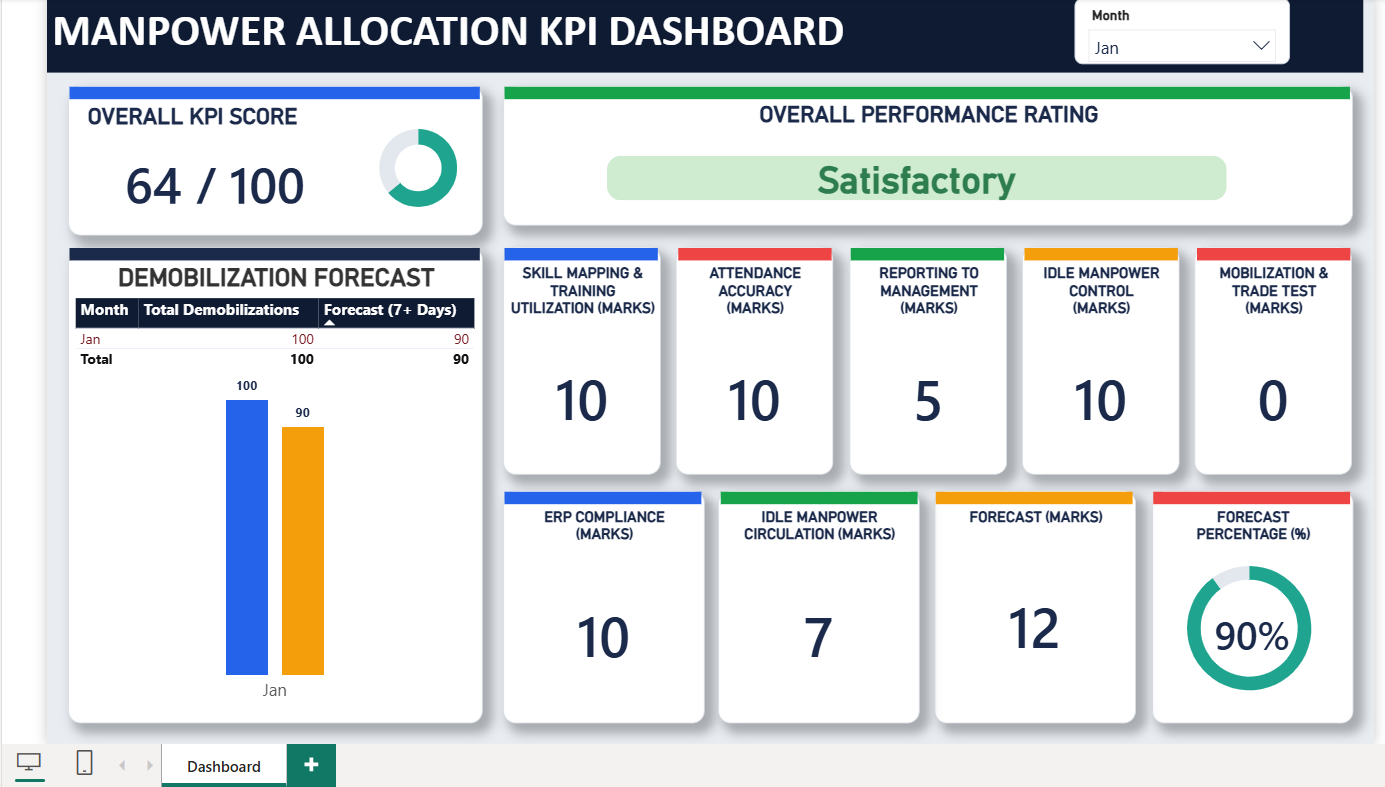

What the dashboard file says about the page in this screenshot:
{"tool":"powerbi","page":{"name":"Dashboard","canvas":[1280,720],"ordinal":0},"visuals":[{"type":"textbox","box":[0,0,1270,72],"z":0},{"type":"tableEx","title":"DEMOBILIZATION FORECAST","fields":{"Values":["KPI_Input.Month","Sum(KPI_Input.Total_Demob)","Sum(KPI_Input.Forecast_Before_7_Days)"]},"box":[20,240,400,460],"z":1000},{"type":"cardVisual","title":"OVERALL KPI SCORE ","fields":{"Data":["KPI_Input.Total_KPI_Display"]},"box":[20,85,400,145],"z":2000},{"type":"cardVisual","title":"OVERALL PERFORMANCE RATING","fields":{"Data":["KPI_Input.Overall_Rating"]},"box":[440,85,820,135],"z":3000},{"type":"cardVisual","title":"SKILL MAPPING & TRAINING UTILIZATION (MARKS)","fields":{"Data":["KPI_Input.Skill_Marks"]},"box":[440,240,152,220],"z":4000},{"type":"cardVisual","title":"ATTENDANCE ACCURACY (MARKS)","fields":{"Data":["KPI_Input.Attendance_Marks"]},"box":[607,240,152,220],"z":5000},{"type":"cardVisual","title":"REPORTING TO MANAGEMENT (MARKS)","fields":{"Data":["KPI_Input.Reporting_Marks"]},"box":[774,240,152,220],"z":6000},{"type":"cardVisual","title":"IDLE MANPOWER CONTROL (MARKS)","fields":{"Data":["KPI_Input.IdleControl_Marks"]},"box":[941,240,152,220],"z":7000},{"type":"cardVisual","title":"MOBILIZATION & TRADE TEST (MARKS)","fields":{"Data":["KPI_Input.MobTrade_Marks"]},"box":[1108,240,152,220],"z":8000},{"type":"cardVisual","title":"OVERALL PERFORMANCE RATING","fields":{"Data":["KPI_Input.Overall_Rating"]},"box":[512,112,656,112],"z":10000},{"type":"clusteredColumnChart","fields":{"Category":["DEMOBILIZATION FORECAST.Month"],"Y":["Sum(DEMOBILIZATION FORECAST.Total_Demob)","Sum(DEMOBILIZATION FORECAST.Forecast_Before_7_Days)"]},"box":[35,350,370,340],"z":12000},{"type":"cardVisual","title":"FORECAST PERCENTAGE (%)","fields":{"Data":["KPI_Input.Forecast_Percentage"]},"box":[1066,475,194,225],"z":13000},{"type":"cardVisual","title":"FORECAST (MARKS)","fields":{"Data":["KPI_Input.Forecast_Marks"]},"box":[856,475,194,225],"z":14000},{"type":"cardVisual","title":"ERP COMPLIANCE (MARKS)","fields":{"Data":["KPI_Input.ERP_Marks"]},"box":[440,475,194,225],"z":15000},{"type":"cardVisual","title":"IDLE MANPOWER CIRCULATION (MARKS)","fields":{"Data":["KPI_Input.Idle_Marks"]},"box":[648,475,194,225],"z":16000},{"type":"donutChart","fields":{"Y":["DEMOBILIZATION FORECAST.Forecast_Percentage","DEMOBILIZATION FORECAST.Forecast_Remaining"]},"box":[1072,528,176,160],"z":17000},{"type":"donutChart","fields":{"Y":["DEMOBILIZATION FORECAST.Total_KPI_Score","DEMOBILIZATION FORECAST.Score_Remaining"]},"box":[306,112,104,104],"z":18000},{"type":"shape","box":[22,86,396,12],"z":19000},{"type":"shape","box":[442,86,816,12],"z":20000},{"type":"shape","box":[22,241,396,12],"z":21000},{"type":"shape","box":[442,241,148,12],"z":22000},{"type":"shape","box":[609,241,148,12],"z":23000},{"type":"shape","box":[776,241,148,12],"z":24000},{"type":"shape","box":[943,241,148,12],"z":25000},{"type":"shape","box":[1110,241,148,12],"z":26000},{"type":"shape","box":[442,476,190,12],"z":27000},{"type":"shape","box":[650,476,190,12],"z":28000},{"type":"shape","box":[858,476,190,12],"z":29000},{"type":"shape","box":[1068,476,190,12],"z":30000},{"type":"slicer","fields":{"Values":["DEMOBILIZATION FORECAST.Month"]},"box":[992,0,208,64],"z":30500}]}

Visuals, with their boxes in screenshot pixels (x1, y1, x2, y2):
textbox: (50,11,1358,85)
"DEMOBILIZATION FORECAST" tableEx: (71,258,483,731)
"OVERALL KPI SCORE " cardVisual: (71,98,483,248)
"OVERALL PERFORMANCE RATING" cardVisual: (503,98,1347,237)
"SKILL MAPPING & TRAINING UTILIZATION (MARKS)" cardVisual: (503,258,660,484)
"ATTENDANCE ACCURACY (MARKS)" cardVisual: (675,258,832,484)
"REPORTING TO MANAGEMENT (MARKS)" cardVisual: (847,258,1004,484)
"IDLE MANPOWER CONTROL (MARKS)" cardVisual: (1019,258,1175,484)
"MOBILIZATION & TRADE TEST (MARKS)" cardVisual: (1191,258,1347,484)
"OVERALL PERFORMANCE RATING" cardVisual: (577,126,1253,241)
clusteredColumnChart - DEMOBILIZATION FORECAST.Month x Sum(DEMOBILIZATION FORECAST.Total_Demob): (87,371,467,721)
"FORECAST PERCENTAGE (%)" cardVisual: (1148,500,1347,731)
"FORECAST (MARKS)" cardVisual: (932,500,1131,731)
"ERP COMPLIANCE (MARKS)" cardVisual: (503,500,703,731)
"IDLE MANPOWER CIRCULATION (MARKS)" cardVisual: (717,500,917,731)
donutChart - DEMOBILIZATION FORECAST.Forecast_Percentage x DEMOBILIZATION FORECAST.Forecast_Remaining: (1154,554,1335,719)
donutChart - DEMOBILIZATION FORECAST.Total_KPI_Score x DEMOBILIZATION FORECAST.Score_Remaining: (365,126,472,233)
shape: (73,99,481,112)
shape: (505,99,1345,112)
shape: (73,259,481,271)
shape: (505,259,658,271)
shape: (677,259,830,271)
shape: (849,259,1002,271)
shape: (1021,259,1173,271)
shape: (1193,259,1345,271)
shape: (505,501,701,513)
shape: (719,501,915,513)
shape: (934,501,1129,513)
shape: (1150,501,1345,513)
slicer - DEMOBILIZATION FORECAST.Month: (1071,11,1286,77)
